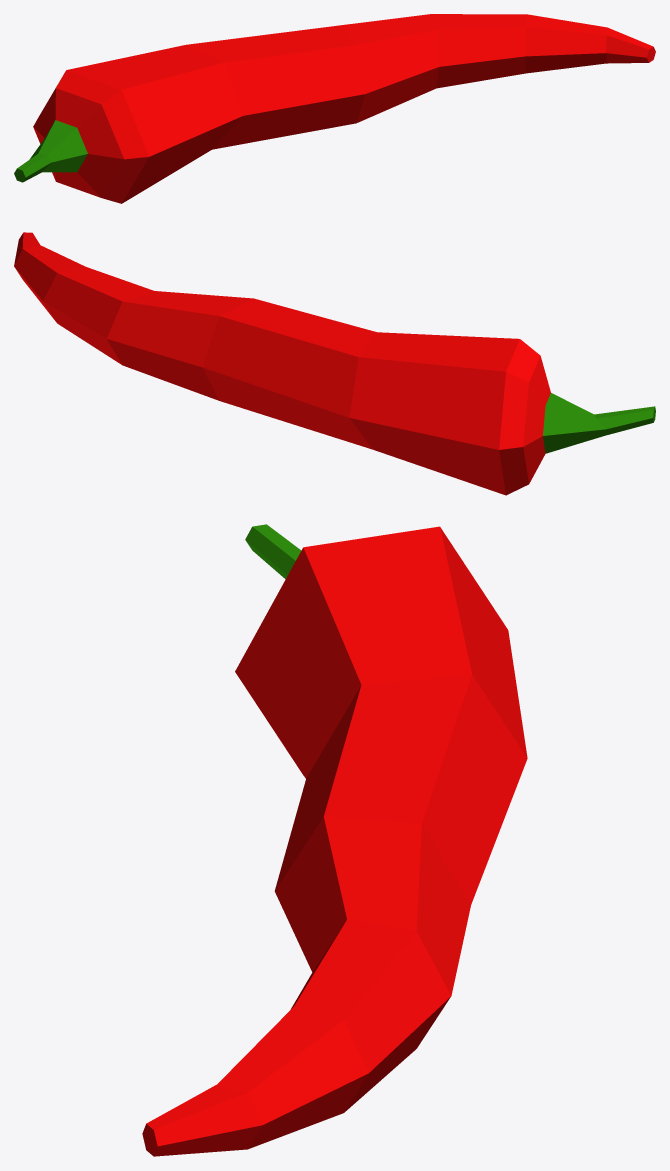
The model's file is pepperchili02.gltf.
The picture shows the model from 3 angles, top to bottom: view 1: azimuth 30°, elevation 25°; view 2: azimuth 150°, elevation 25°; view 3: azimuth 270°, elevation 25°; orthographic projection. The views are drawn at different scales.
Visible parts, largest first — view 1: Cylinder; view 2: Cylinder; view 3: Cylinder.
Part boxes in pixels (x1=…): Cylinder: x1=14, y1=14, x2=655, y2=203; Cylinder: x1=14, y1=232, x2=655, y2=495; Cylinder: x1=142, y1=524, x2=527, y2=1156.
Size of the model in its own units: 0.1203 by 0.0214 by 0.0327.
Materials: 1 (1 with a texture image).
